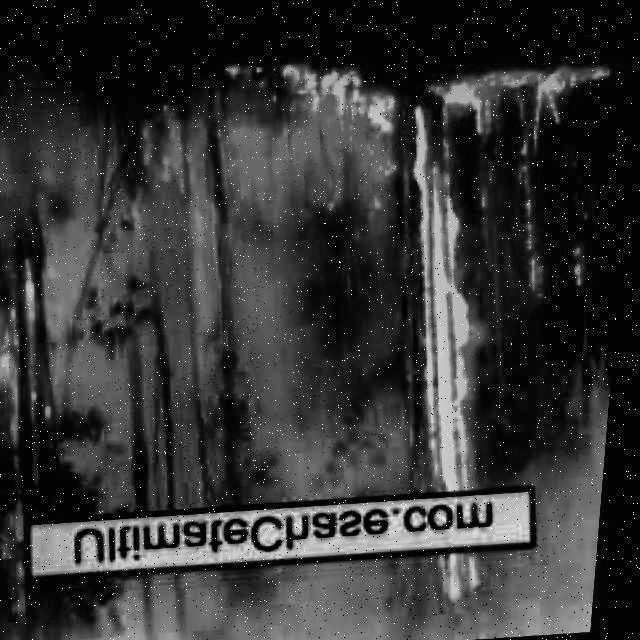Fire: (396, 76, 506, 494), (263, 54, 413, 190), (515, 61, 616, 131)
Smoke: (32, 237, 324, 522), (56, 520, 607, 640), (0, 26, 109, 246)
